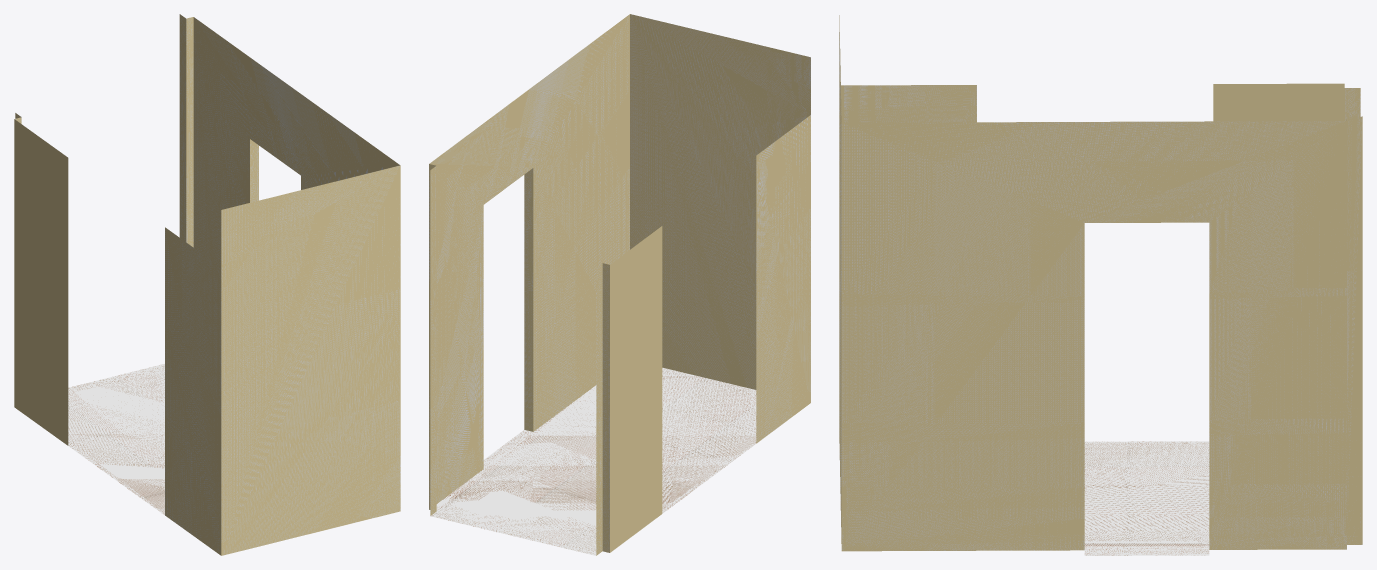
File: COM011.obj
3 views of the same model, side by side, from view 1: azimuth 30°, elevation 25°; view 2: azimuth 150°, elevation 25°; view 3: azimuth 270°, elevation 25° (orthographic). The views are drawn at different scales.
Visible parts, largest first — view 1: Mesh1 COM011 Model; view 2: Mesh1 COM011 Model; view 3: Mesh1 COM011 Model.
Boxes of the visible parts, x1,y1,x2,y2 form: Mesh1 COM011 Model: (14, 14, 400, 555); Mesh1 COM011 Model: (429, 14, 810, 555); Mesh1 COM011 Model: (839, 15, 1362, 555).
Bounding box in the file's own units: 2.08 × 3.6 × 3.98.
Materials: 3 (1 with a texture image).
